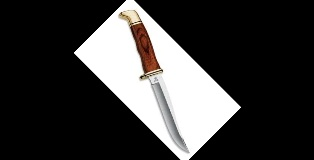k1: (137, 67, 191, 155)
